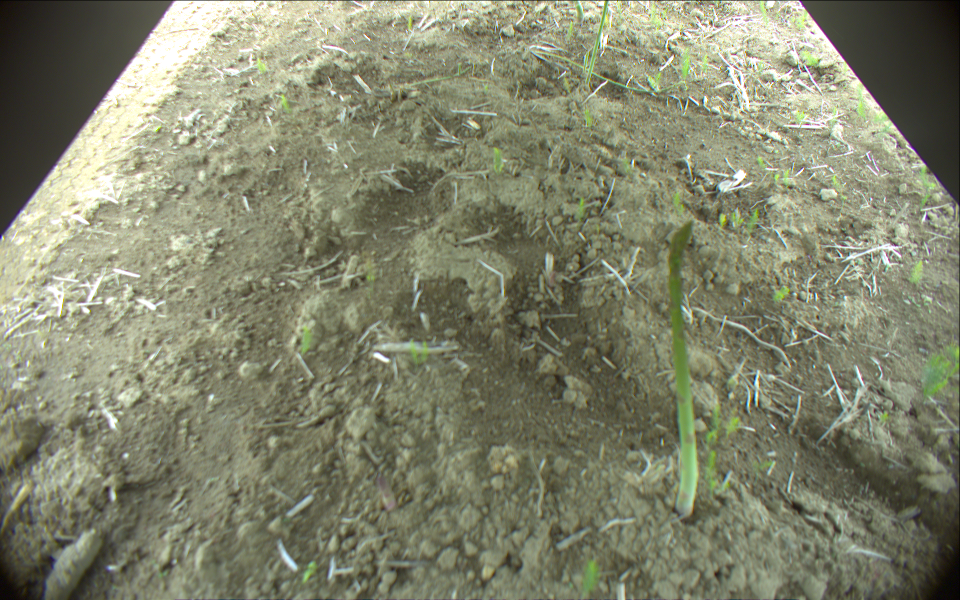aspa: (667, 220, 700, 518), (531, 50, 686, 96), (584, 1, 612, 86), (575, 1, 585, 25)
